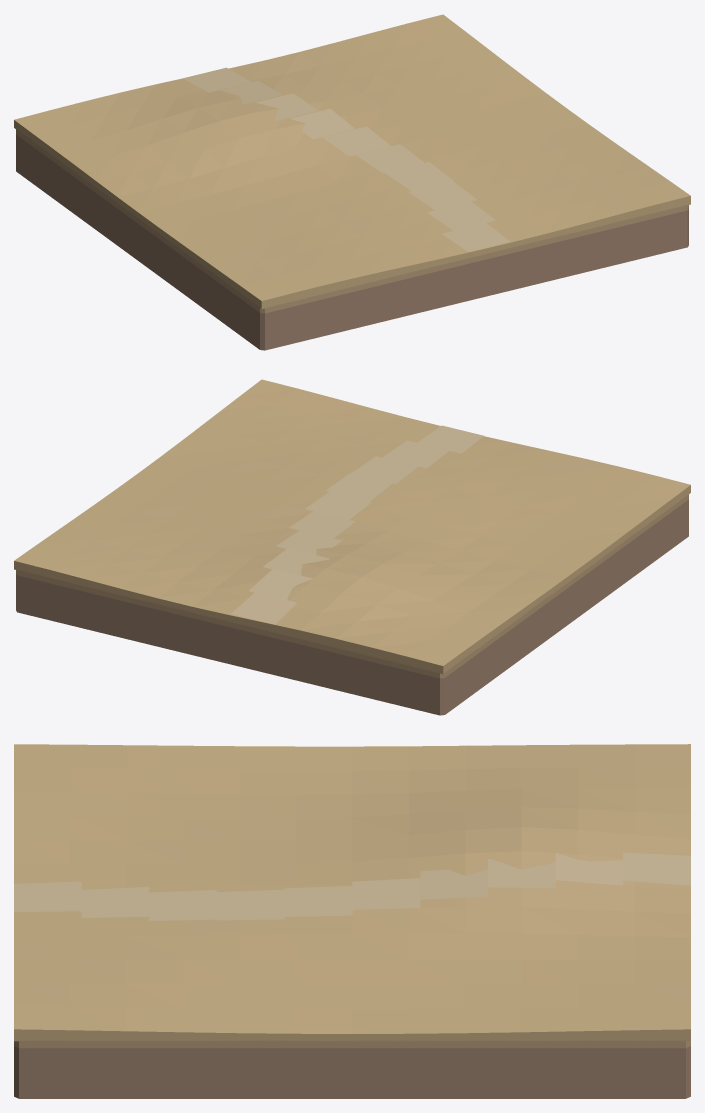
3 renders of one model, top to bottom at view 1: azimuth 30°, elevation 25°; view 2: azimuth 150°, elevation 25°; view 3: azimuth 270°, elevation 25°, orthographic. The views are drawn at different scales.
Visible parts, largest first — view 1: B05; view 2: B05; view 3: B05.
Part boxes in pixels (x1,y1,x2,y2): B05: (14,14,690,350); B05: (14,379,690,715); B05: (14,744,690,1098).
Size of the model in its own units: 8 by 1.05 by 8.
